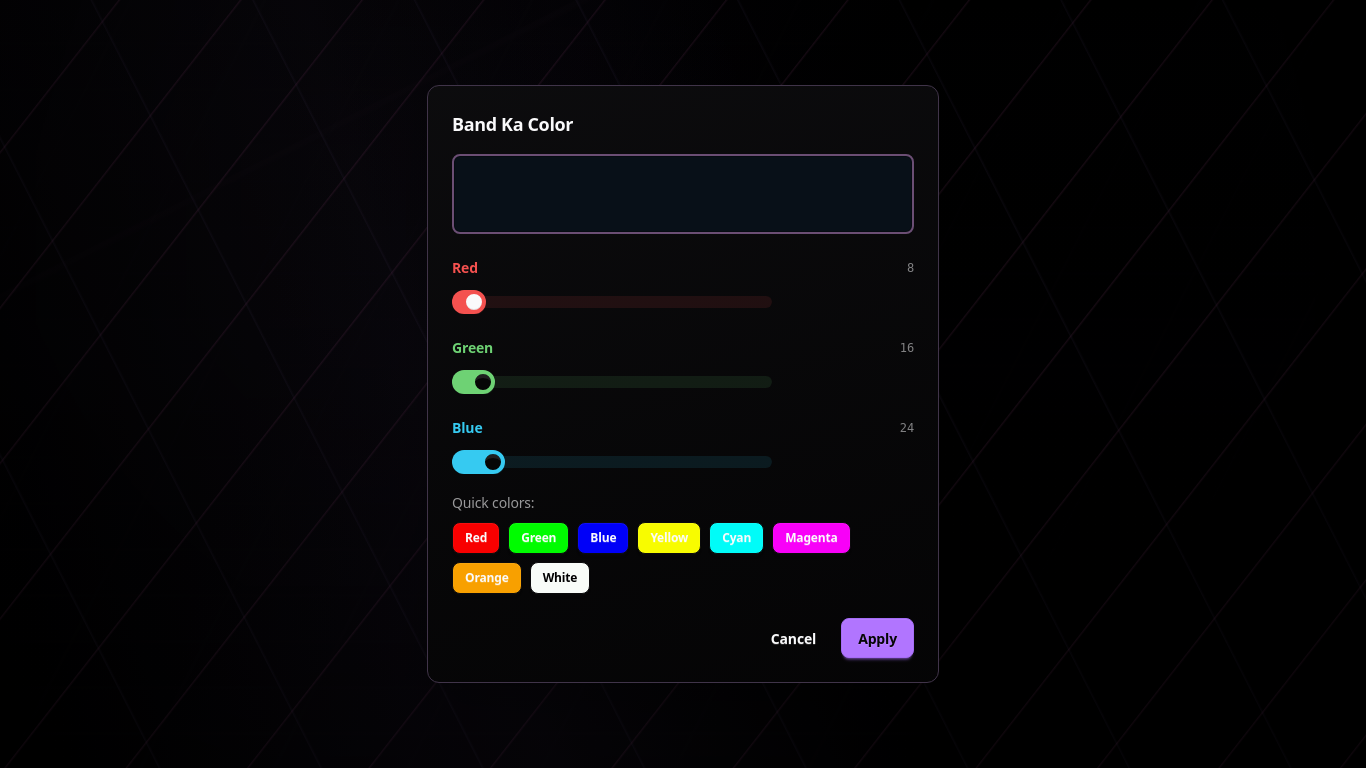
Scenario: ColorPickerModal › renders the selected color and updates channel labels from range input
Check: the heading "Band Ka Color" is shown, box [452,112,573,136]
Check: the element with class "surface-color-preview" has style "backgroundColor: rgb(8, 16, 24)", box [452,154,914,234]
Set the slider labelled "Red 8" to "248" at (764, 302), box [452,290,772,314]
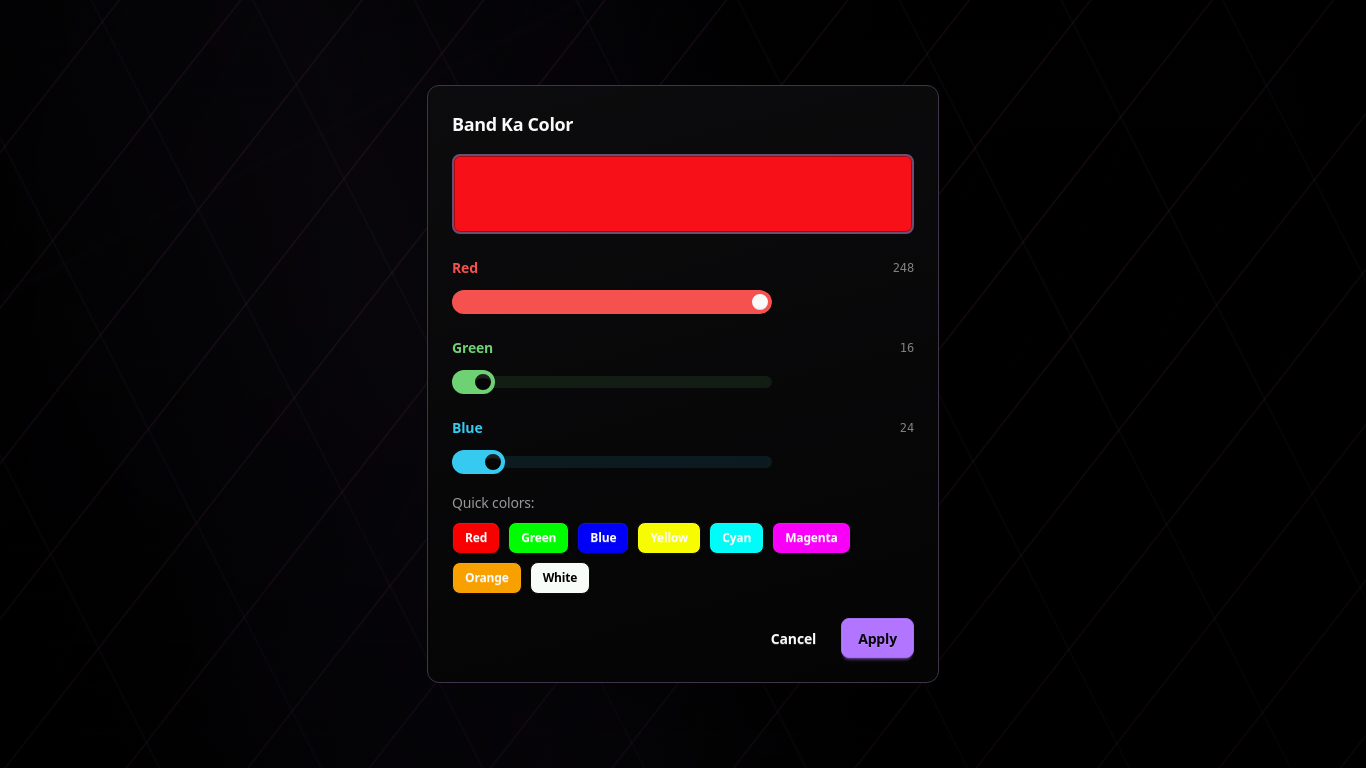
Check: the text "248" is shown, box [893,260,914,276]
